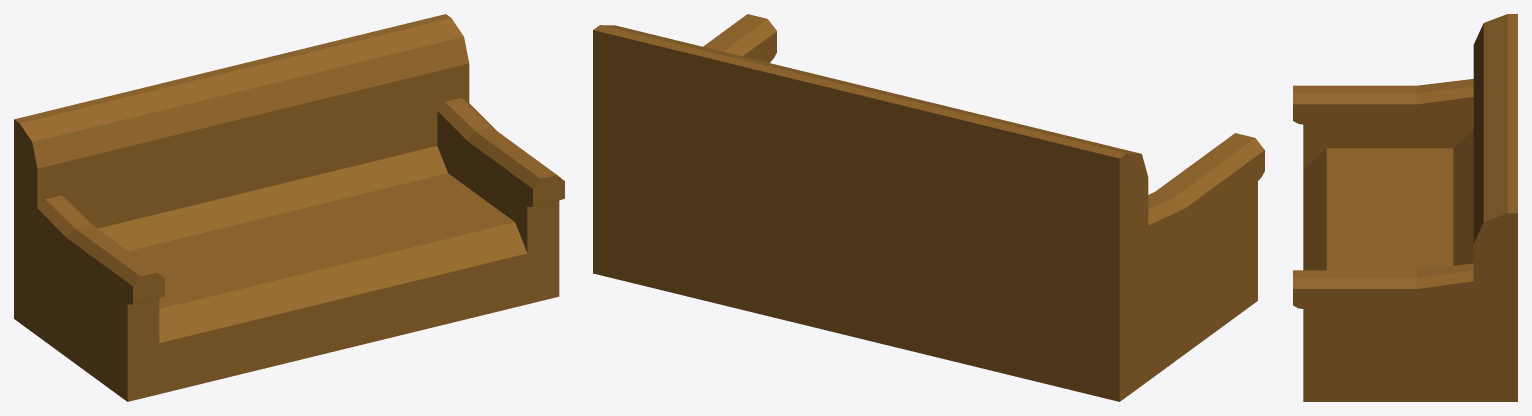
File: divan.fbx
3 renders of one model, left to right at view 1: azimuth 30°, elevation 25°; view 2: azimuth 150°, elevation 25°; view 3: azimuth 270°, elevation 25°, orthographic. The views are drawn at different scales.
Visible parts, largest first — view 1: divan; view 2: divan; view 3: divan.
Boxes of the visible parts, x1,y1,x2,y2 form: divan: [14, 14, 564, 401]; divan: [593, 14, 1264, 401]; divan: [1293, 14, 1517, 401].
Bounding box in the file's own units: 271 × 120 × 129.
